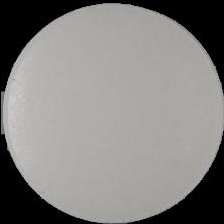21695-743: (0, 0, 224, 224)
